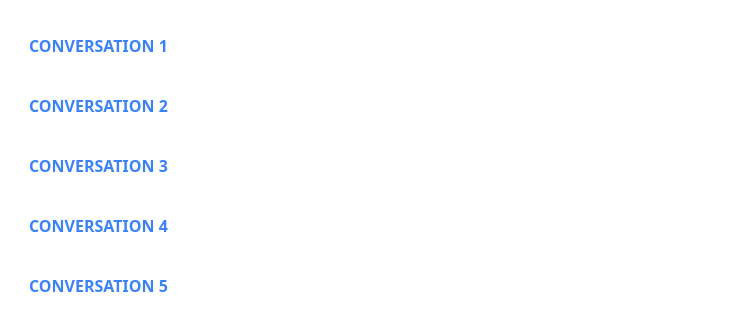
App › should open up a the second most recently updated chat feed when clicking on the second conversation
Click the button "Conversation 2". click: (98, 106)
box: left=17, top=82, right=180, bottom=130
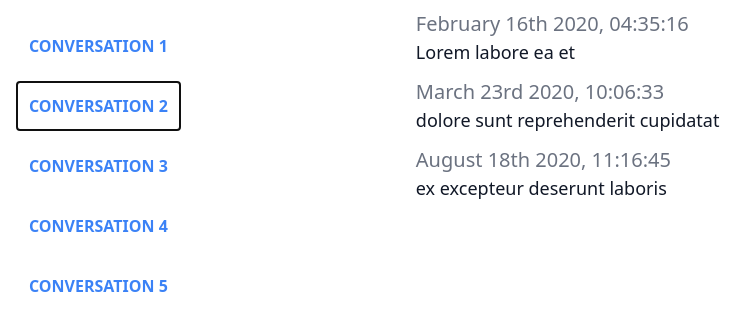
Check: the text "Lorem labore ea et" is shown, box left=416, top=40, right=575, bottom=64
